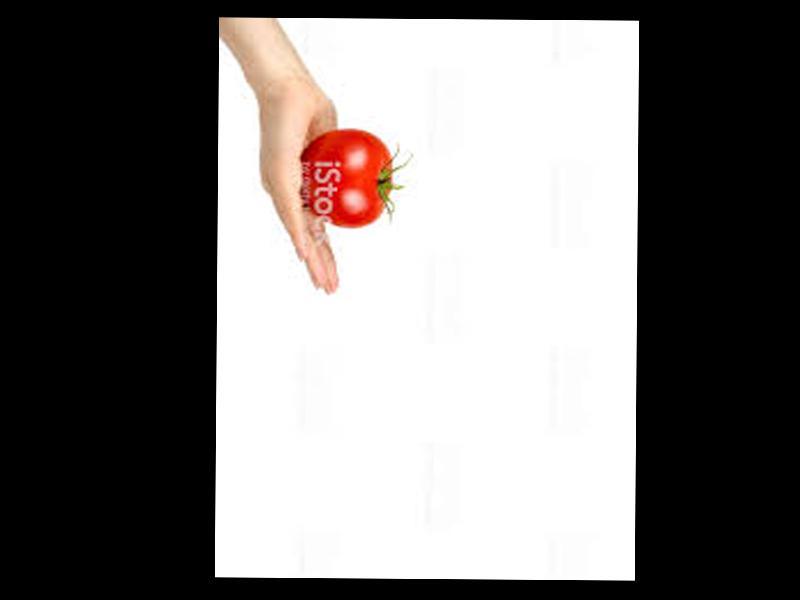Tomato: (302, 128, 394, 226)
